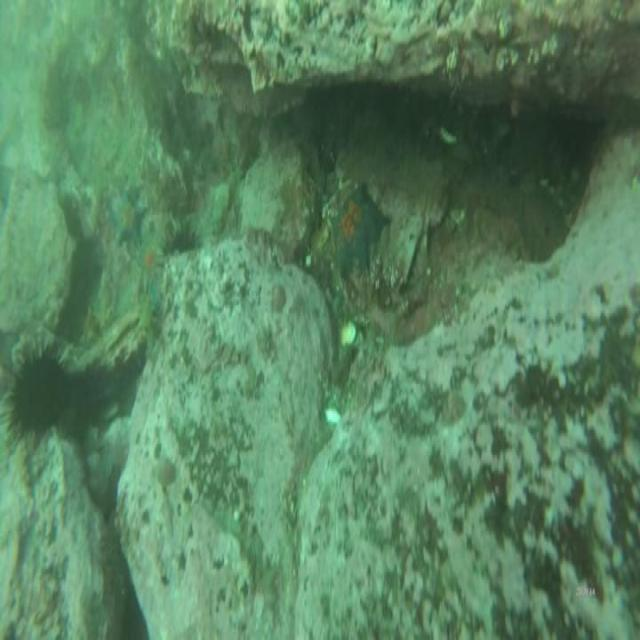echinus: (8, 350, 66, 442)
starfish: (331, 186, 383, 282), (111, 185, 147, 256)
